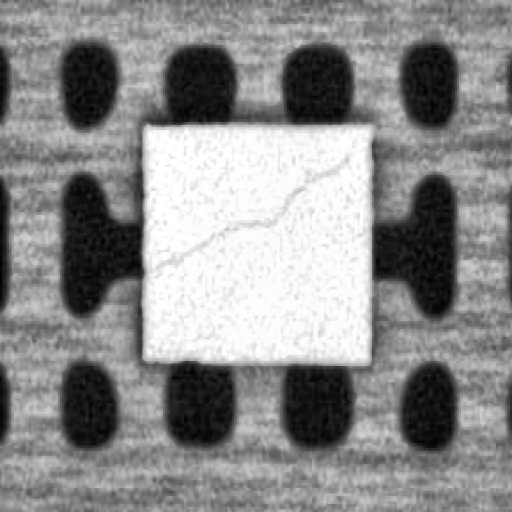DIE_CRACK: (152, 140, 362, 270)
